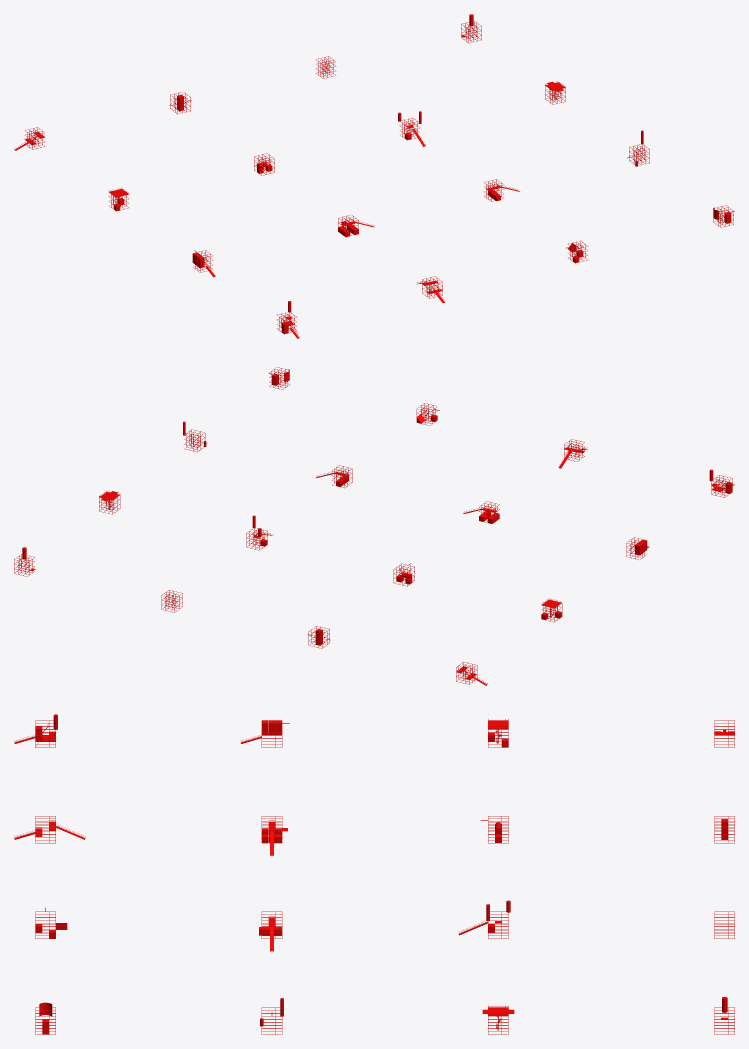
The model's file is folie-field-4x4.glb.
3 views of the same model, one above another, from view 1: azimuth 30°, elevation 25°; view 2: azimuth 150°, elevation 25°; view 3: azimuth 270°, elevation 25° (orthographic). The views are drawn at different scales.
Bounding box in the file's own units: 386 × 20.99 × 382.
